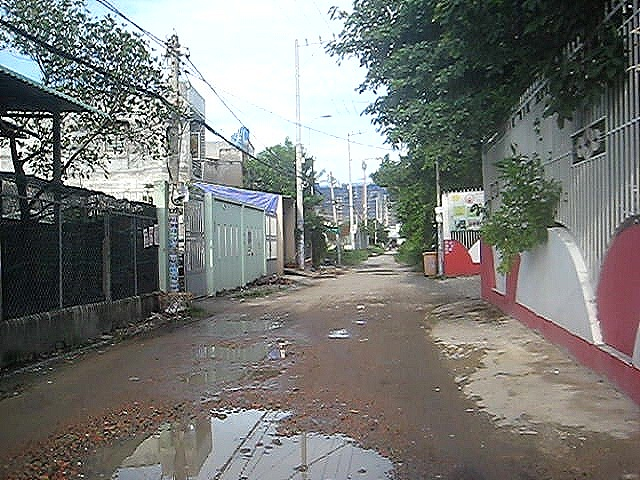hole: (35, 405, 405, 480), (120, 362, 296, 397), (180, 337, 303, 360), (180, 312, 284, 335), (326, 326, 351, 339), (351, 317, 367, 324)
